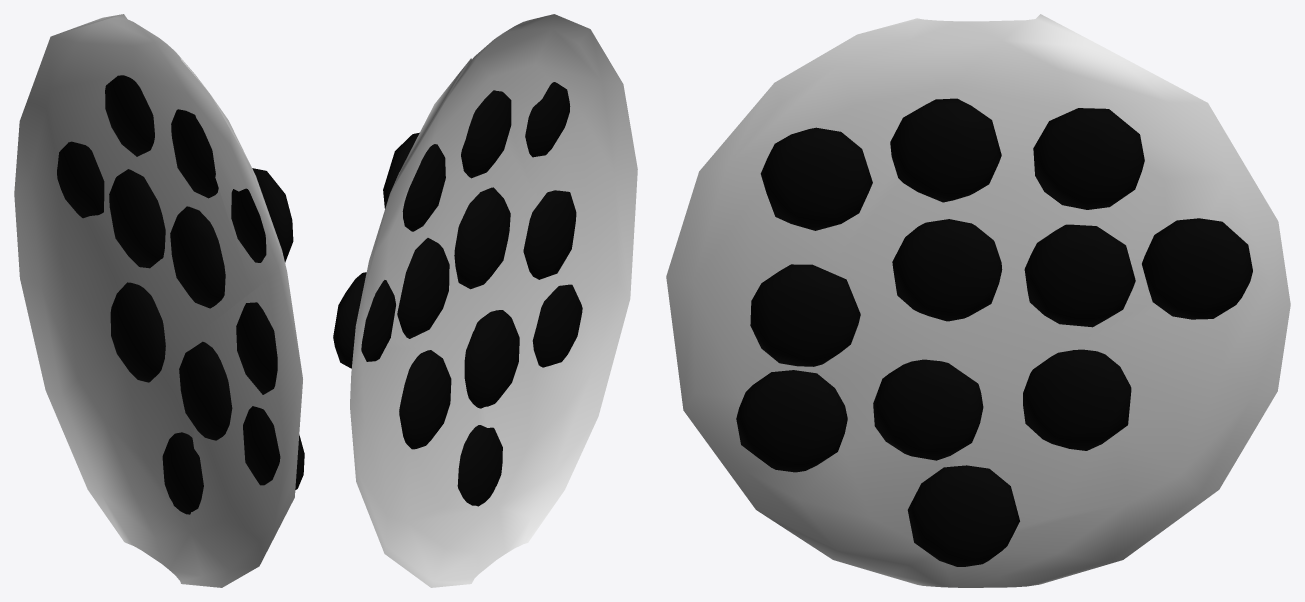
Rendered from cookie_normal_colorable.fbx.
The picture shows the model from 3 angles, left to right: view 1: azimuth 30°, elevation 25°; view 2: azimuth 150°, elevation 25°; view 3: azimuth 270°, elevation 25°; orthographic projection. The views are drawn at different scales.
Parts seen in each view (by area): view 1: base; view 2: base; view 3: base.
Boxes of the visible parts, bbox=[...] form: base: bbox=[14, 14, 304, 587]; base: bbox=[333, 14, 637, 587]; base: bbox=[666, 14, 1290, 587].
Bounding box in the file's own units: 20.31 × 198 × 196.
